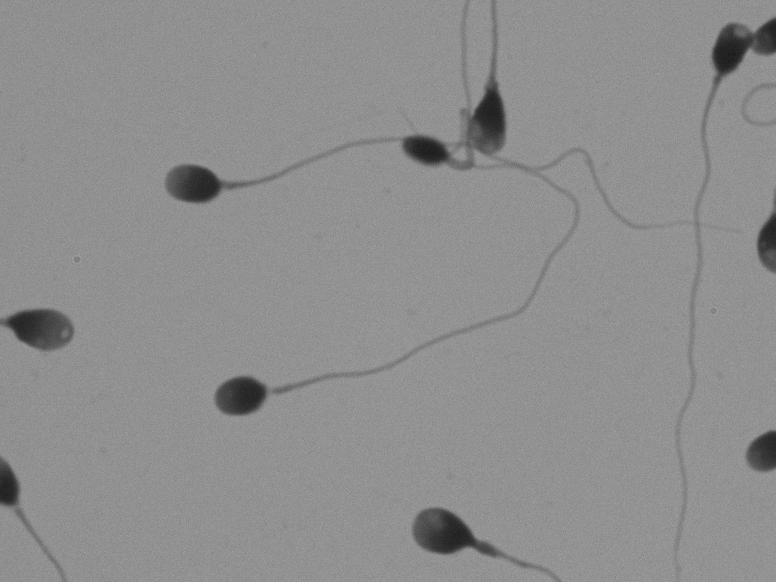Abnormal: (657, 14, 760, 558), (371, 12, 563, 205), (5, 258, 97, 391)
Normal: (182, 220, 597, 449), (124, 73, 399, 271)
